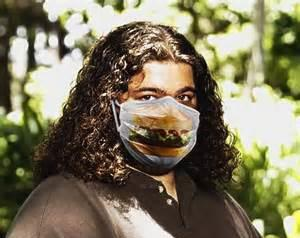OK: (115, 75, 204, 164)
